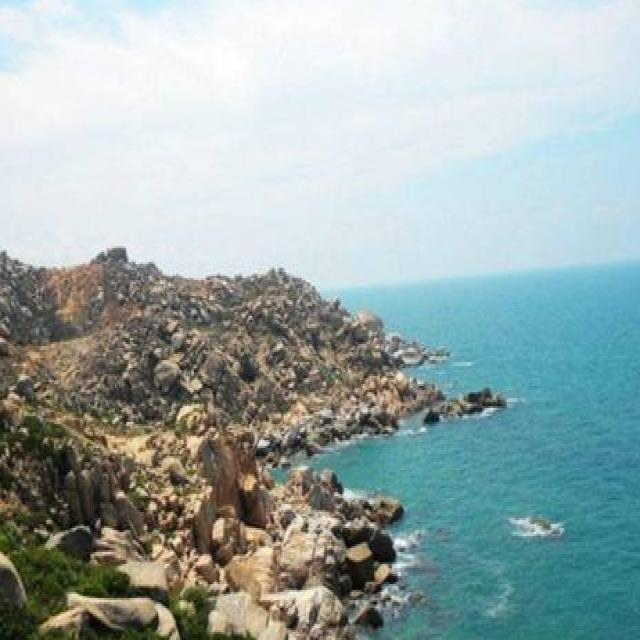reef: (203, 462, 430, 640), (299, 347, 446, 459)
